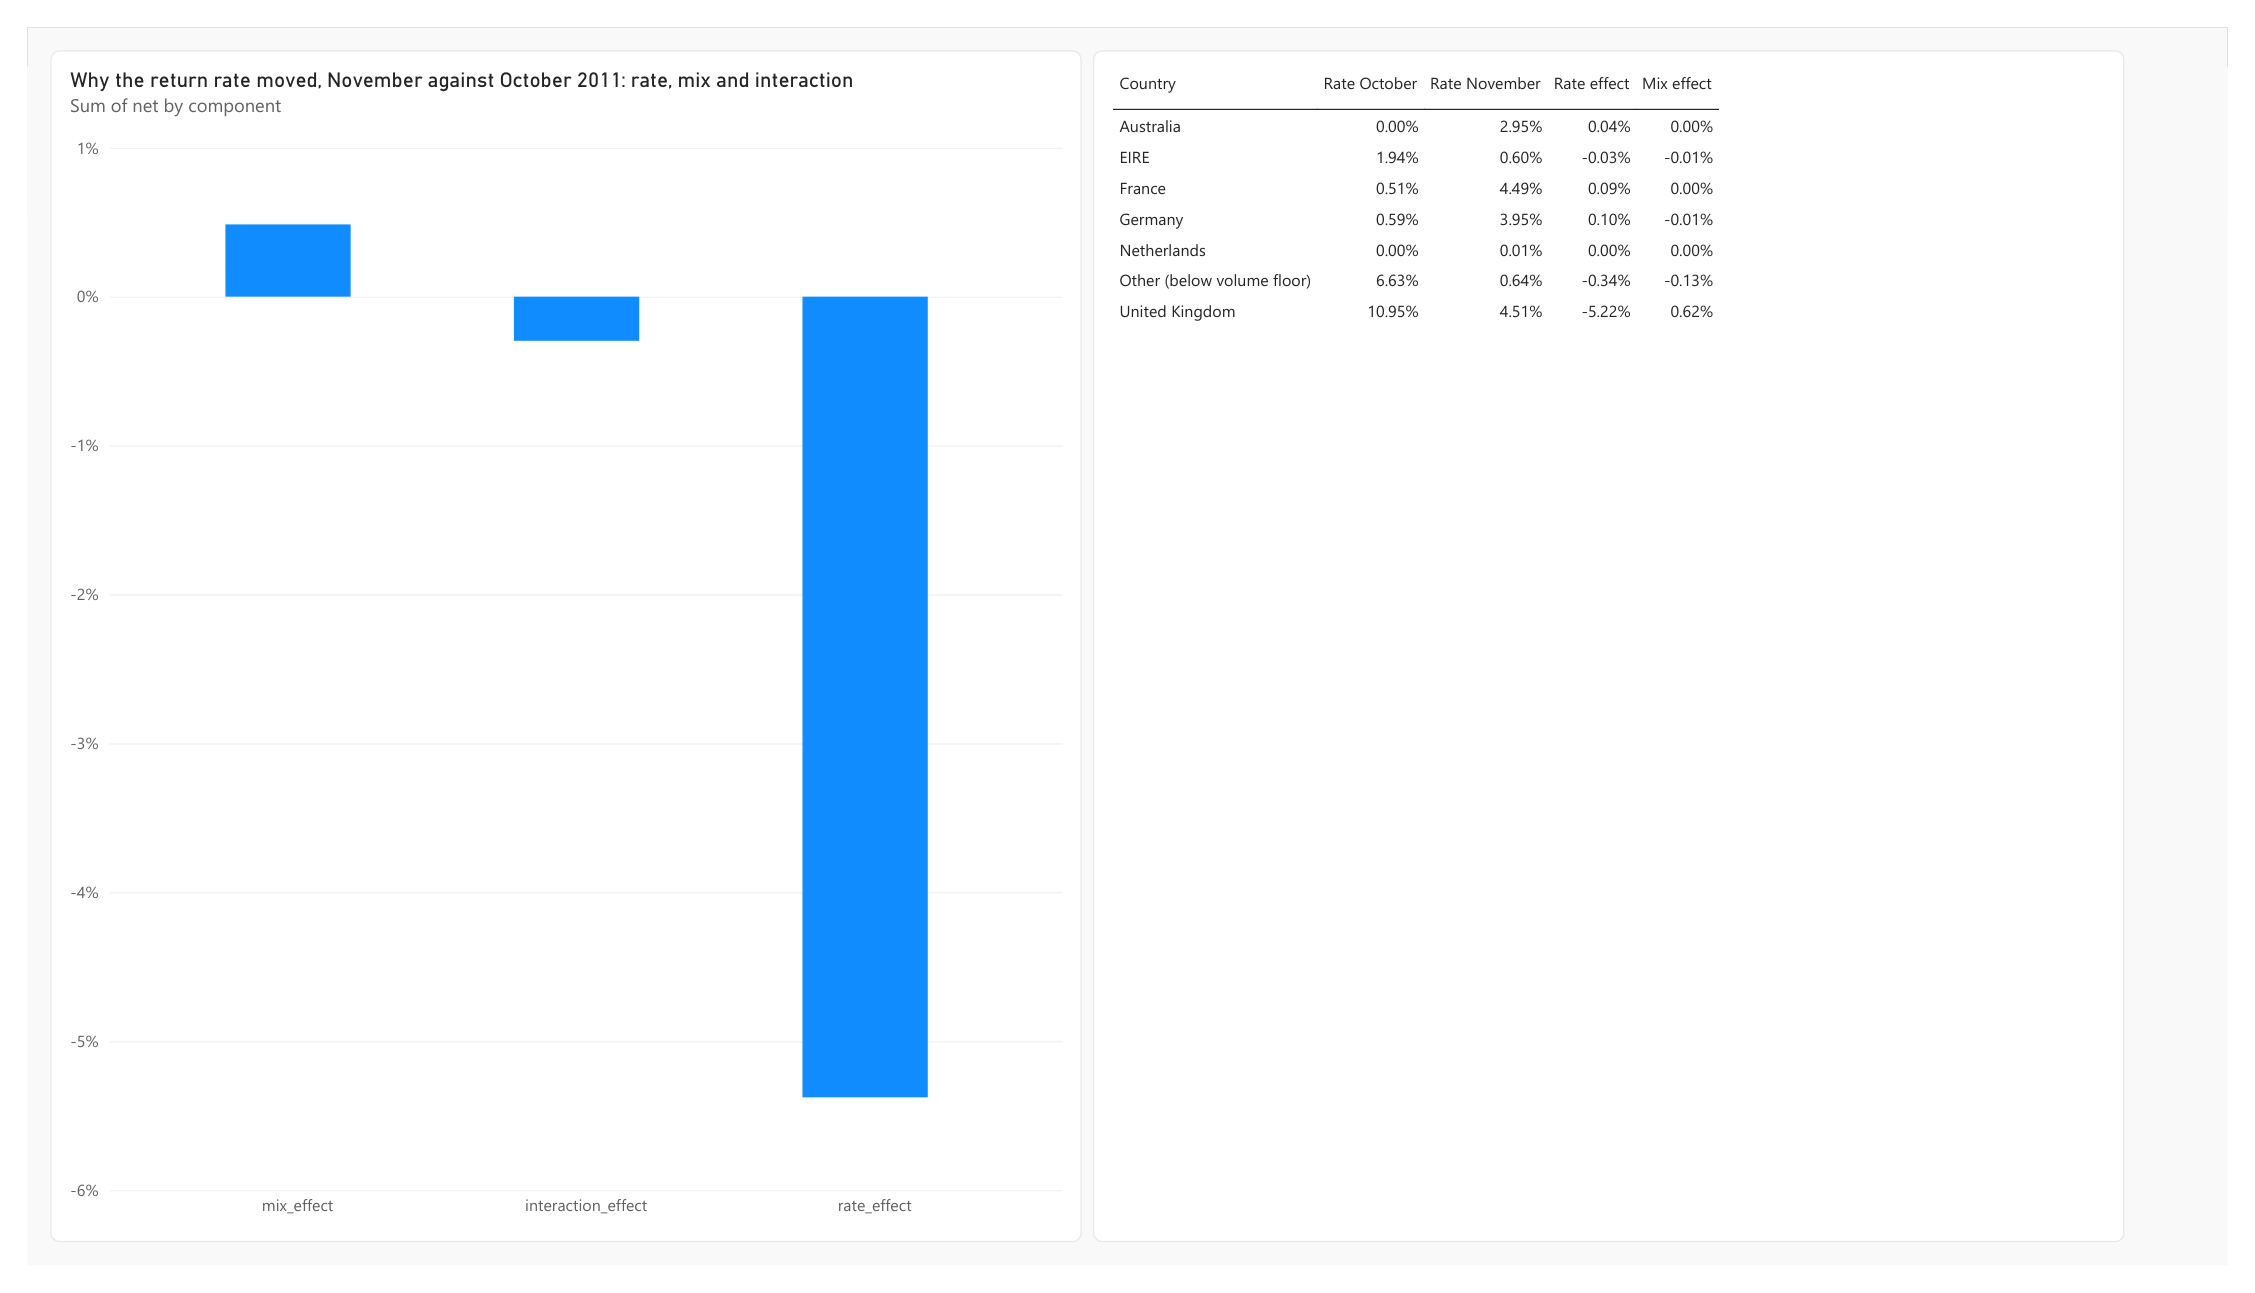

What the dashboard file says about the page in this screenshot:
{"tool":"powerbi","page":{"name":"Returns","canvas":[1920,1080],"ordinal":2},"visuals":[{"type":"clusteredColumnChart","title":"Why the return rate moved, November against October 2011: rate, mix and interaction","fields":{"Category":["rootsignal rpt_return_rate_components.component"],"Y":["Sum(rootsignal rpt_return_rate_components.net)"]},"box":[20,20,900,1040],"z":0},{"type":"tableEx","fields":{"Values":["rootsignal rpt_return_rate_split.segment","Sum(rootsignal rpt_return_rate_split.rate_before)","Sum(rootsignal rpt_return_rate_split.rate_after)","Sum(rootsignal rpt_return_rate_split.rate_effect)","Sum(rootsignal rpt_return_rate_split.mix_effect)"]},"box":[930,20,900,1040],"z":1}]}

Visuals, with their boxes in screenshot pixels (x1, y1, x2, y2), scaled from the page's 1920x1080 canvas onto the 2255x1293 screenshot:
"Why the return rate moved, November against October 2011: rate, mix and interaction" clusteredColumnChart: 23,24,1081,1269
tableEx - rootsignal rpt_return_rate_split.segment x Sum(rootsignal rpt_return_rate_split.rate_before): 1092,24,2149,1269
